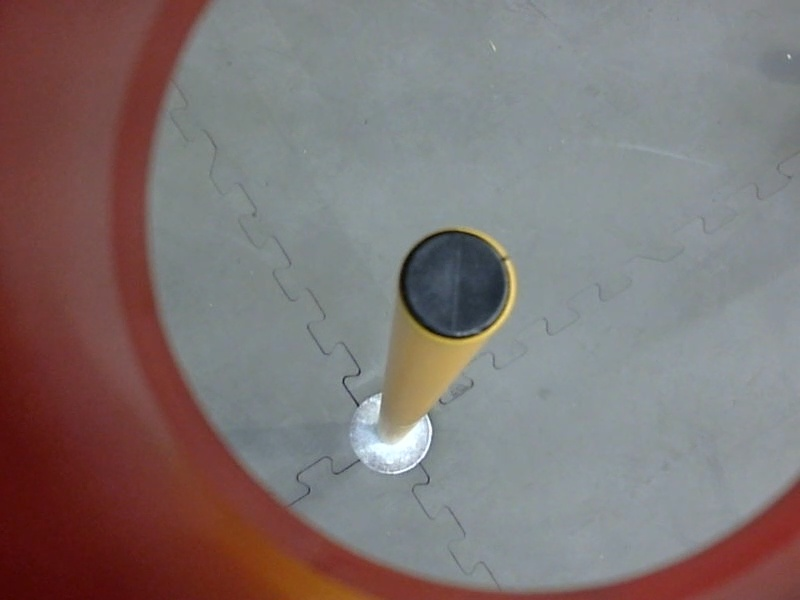tip: (390, 218, 523, 349)
